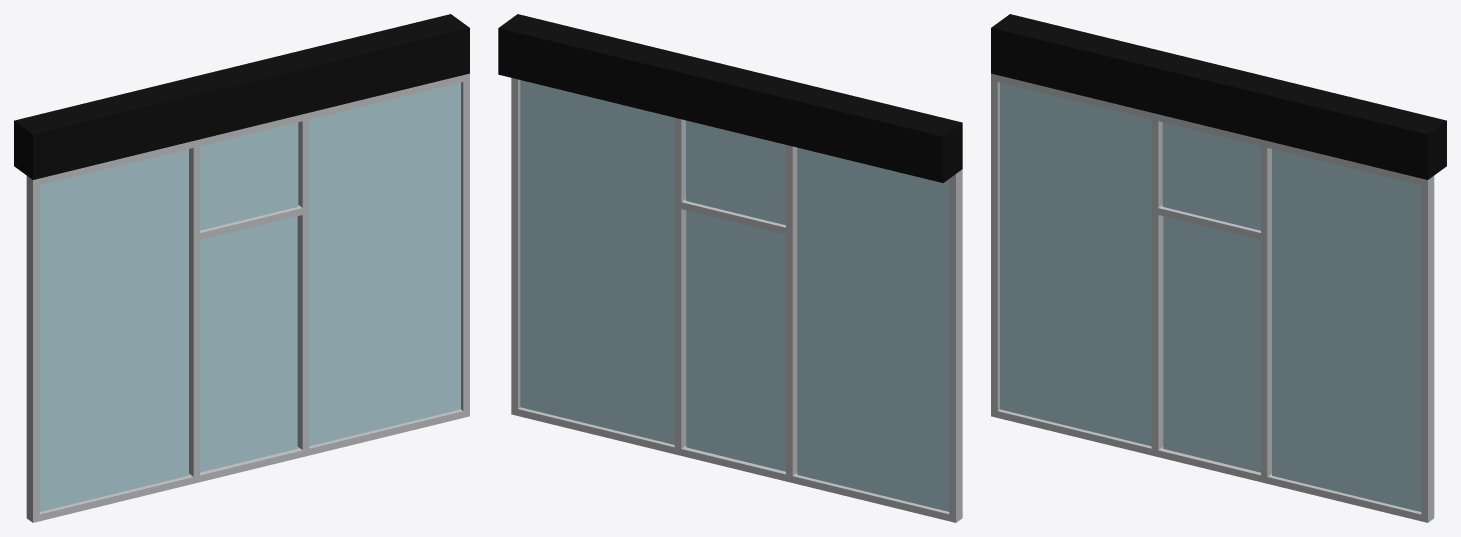
Rendered from opening.shopfront.w4000.glb.
3 renders of one model, left to right at view 1: azimuth 30°, elevation 25°; view 2: azimuth 150°, elevation 25°; view 3: azimuth 330°, elevation 25°, orthographic.
Visible parts, largest first — view 1: glazing__glass, frame__plastic_black, frame__aluminium; view 2: glazing__glass, frame__plastic_black, frame__aluminium; view 3: glazing__glass, frame__plastic_black, frame__aluminium.
Part boxes in pixels (x1=…): glazing__glass: x1=39, y1=82, x2=460, y2=511; frame__plastic_black: x1=14, y1=14, x2=469, y2=179; frame__aluminium: x1=26, y1=73, x2=469, y2=522; glazing__glass: x1=520, y1=80, x2=949, y2=511; frame__plastic_black: x1=498, y1=14, x2=962, y2=182; frame__aluminium: x1=511, y1=78, x2=962, y2=522; glazing__glass: x1=1000, y1=82, x2=1421, y2=511; frame__plastic_black: x1=991, y1=14, x2=1446, y2=179; frame__aluminium: x1=991, y1=73, x2=1434, y2=522.
Size of the model in its own units: 4 by 3.4 by 0.3.
